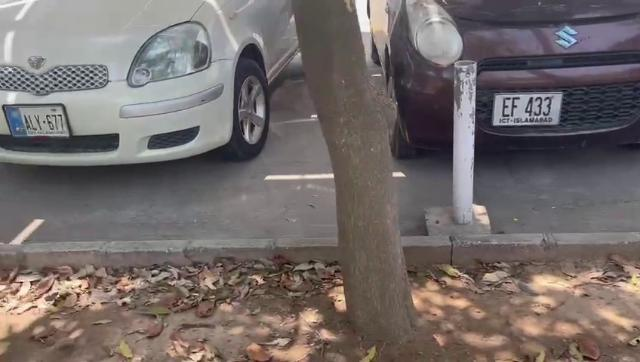plate: (2, 104, 70, 137), (495, 93, 562, 126)
